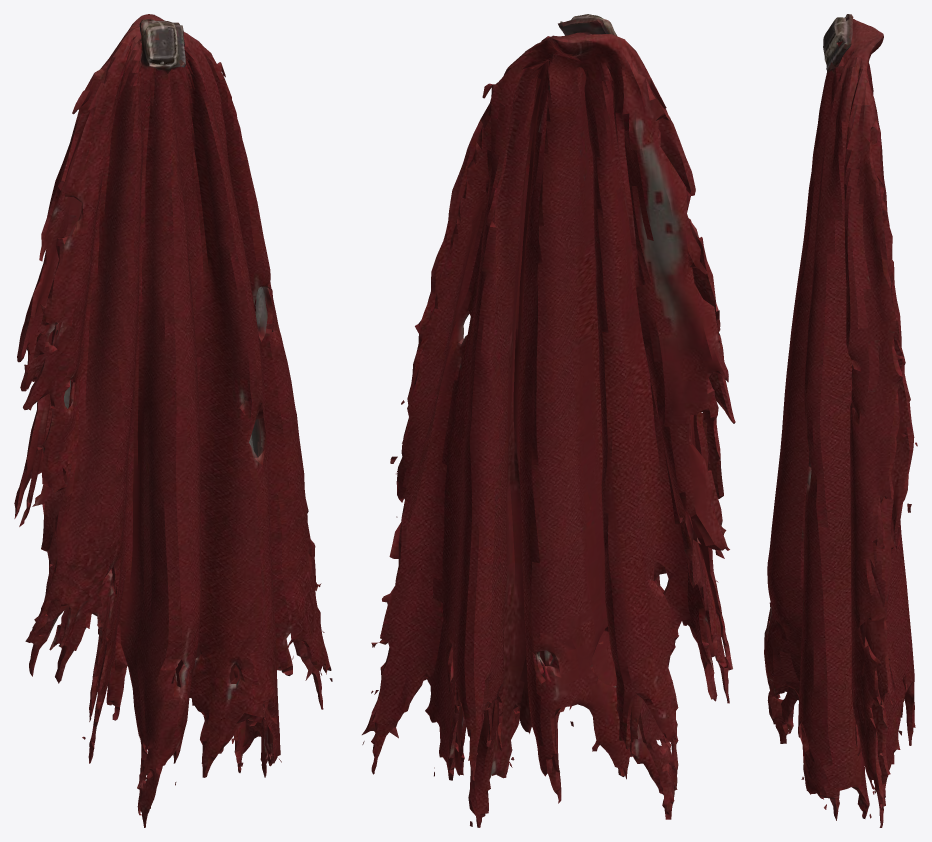
The model's file is capa.glb.
The picture shows the model from 3 angles, left to right: view 1: azimuth 30°, elevation 25°; view 2: azimuth 150°, elevation 25°; view 3: azimuth 270°, elevation 25°; orthographic projection. The views are drawn at different scales.
Parts seen in each view (by area): view 1: Mesh0; view 2: Mesh0; view 3: Mesh0.
Boxes of the visible parts, x1=… form: Mesh0: x1=14, y1=14, x2=332, y2=827; Mesh0: x1=362, y1=14, x2=735, y2=827; Mesh0: x1=764, y1=14, x2=917, y2=827.
Size of the model in its own units: 0.8142 by 1.83 by 0.3382.
Materials: 1 (1 with a texture image).
